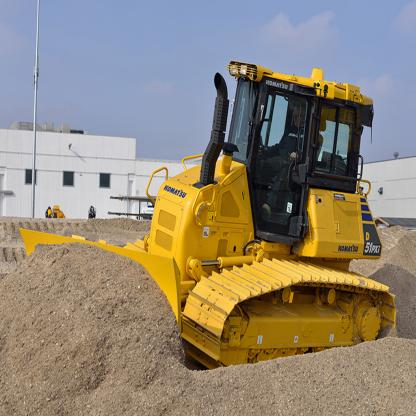bull_dozer/loader/grader: (24, 47, 405, 374)
